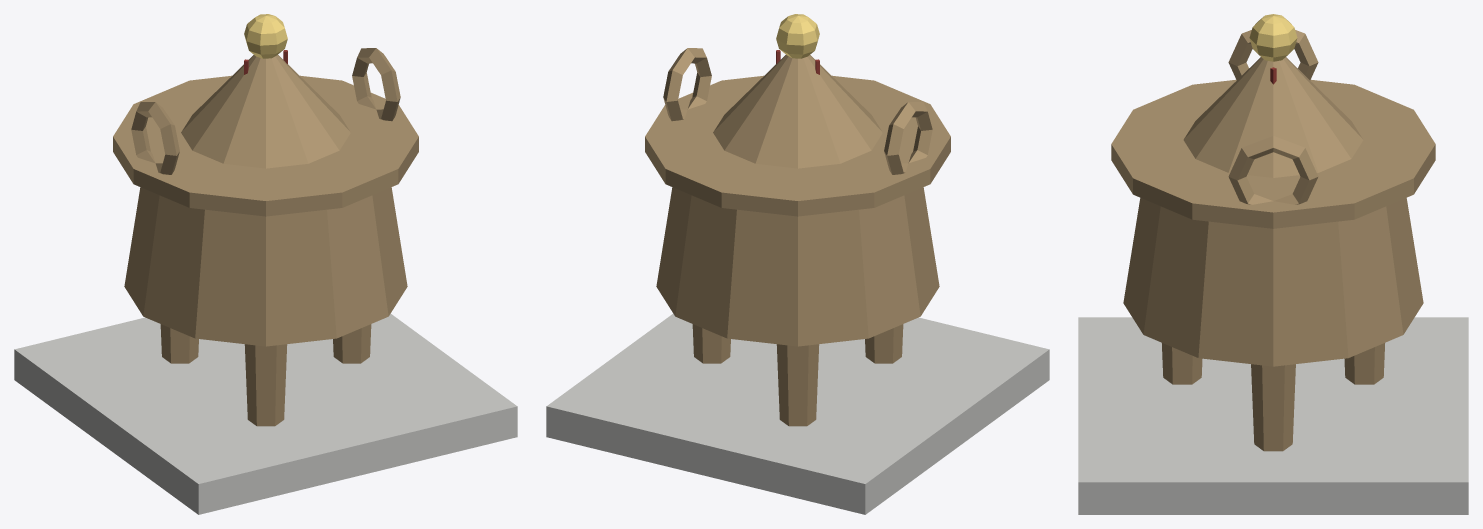
File: cn_incense_burner.glb
3 views of the same model, side by side, from view 1: azimuth 30°, elevation 25°; view 2: azimuth 150°, elevation 25°; view 3: azimuth 270°, elevation 25° (orthographic). The views are drawn at different scales.
Visible parts, largest first — view 1: cn_incense_burner; view 2: cn_incense_burner; view 3: cn_incense_burner.
Boxes of the visible parts, x1=… form: cn_incense_burner: x1=14, y1=14, x2=517, y2=514; cn_incense_burner: x1=546, y1=14, x2=1049, y2=514; cn_incense_burner: x1=1078, y1=14, x2=1468, y2=514.
Bounding box in the file's own units: 1.3 × 1.53 × 1.3.
